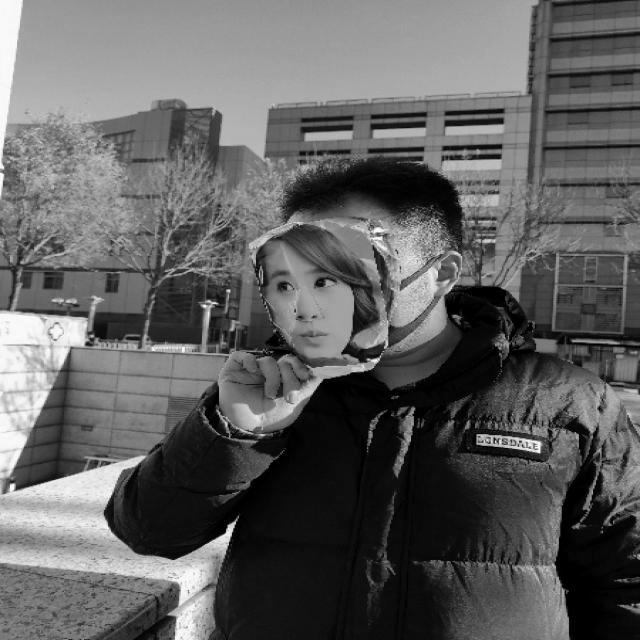fake: (244, 146, 484, 372)
